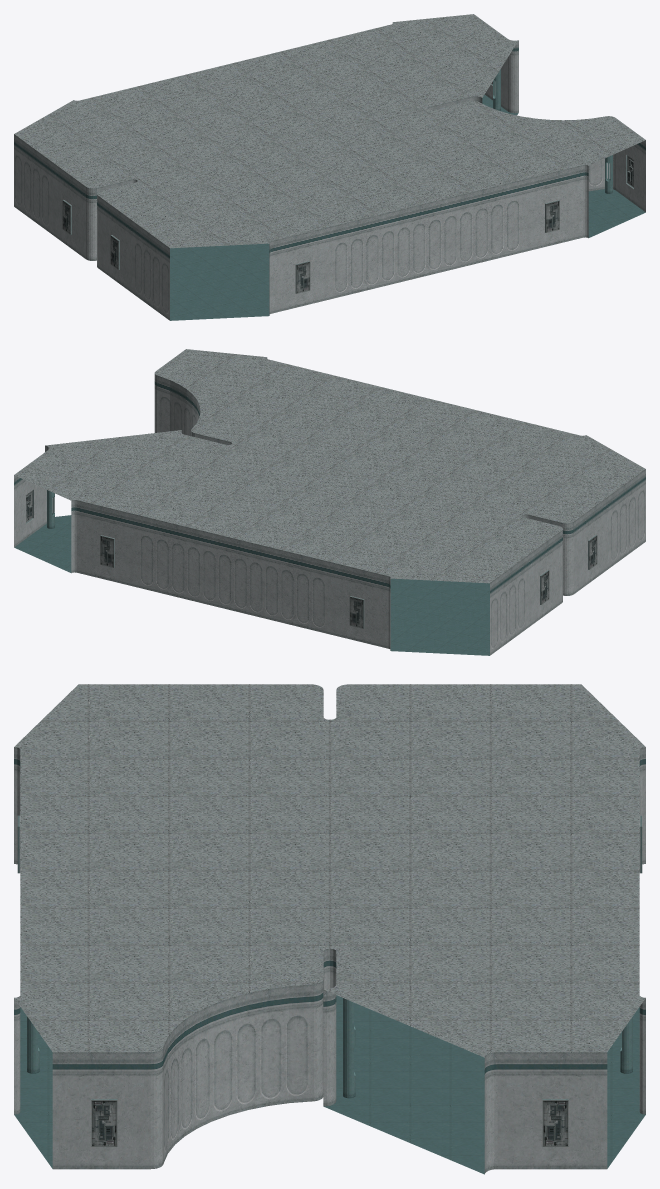
The model's file is mun_all_hospital_s01_r6_mesh.fbx.
3 renders of one model, top to bottom at view 1: azimuth 30°, elevation 25°; view 2: azimuth 150°, elevation 25°; view 3: azimuth 270°, elevation 25°, orthographic. The views are drawn at different scales.
Parts seen in each view (by area): view 1: mesh_node; view 2: mesh_node; view 3: mesh_node.
Boxes of the visible parts, left/top/right/bottom form: mesh_node: left=14, top=14, right=645, bottom=320; mesh_node: left=14, top=349, right=645, bottom=655; mesh_node: left=14, top=684, right=645, bottom=1174.
Size of the model in its own units: 34.35 by 5 by 24.5.
